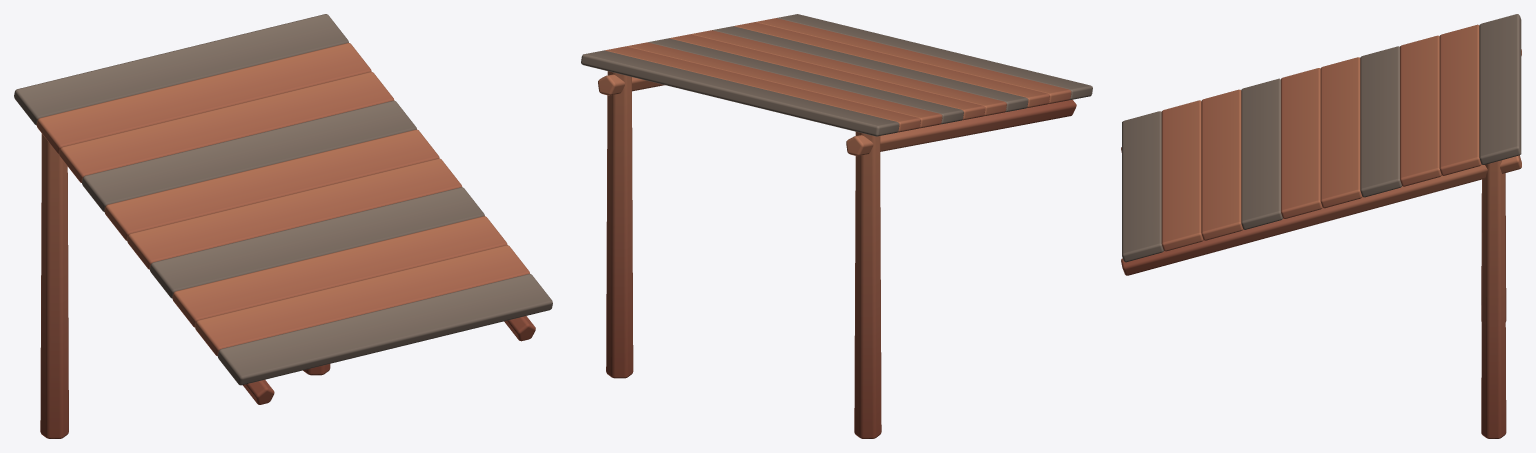
File: boardwalk_ramp.glb
3 views of the same model, side by side, from view 1: azimuth 30°, elevation 25°; view 2: azimuth 150°, elevation 25°; view 3: azimuth 270°, elevation 25° (orthographic). The views are drawn at different scales.
Visible parts, largest first — view 1: boardwalk_ramp; view 2: boardwalk_ramp; view 3: boardwalk_ramp.
Part boxes in pixels (x1,y1,x2,y2): boardwalk_ramp: (14,14,552,438); boardwalk_ramp: (581,14,1092,438); boardwalk_ramp: (1121,14,1521,438).
Size of the model in its own units: 2.4 by 2.49 by 3.03.
1 material, 1 textured.
